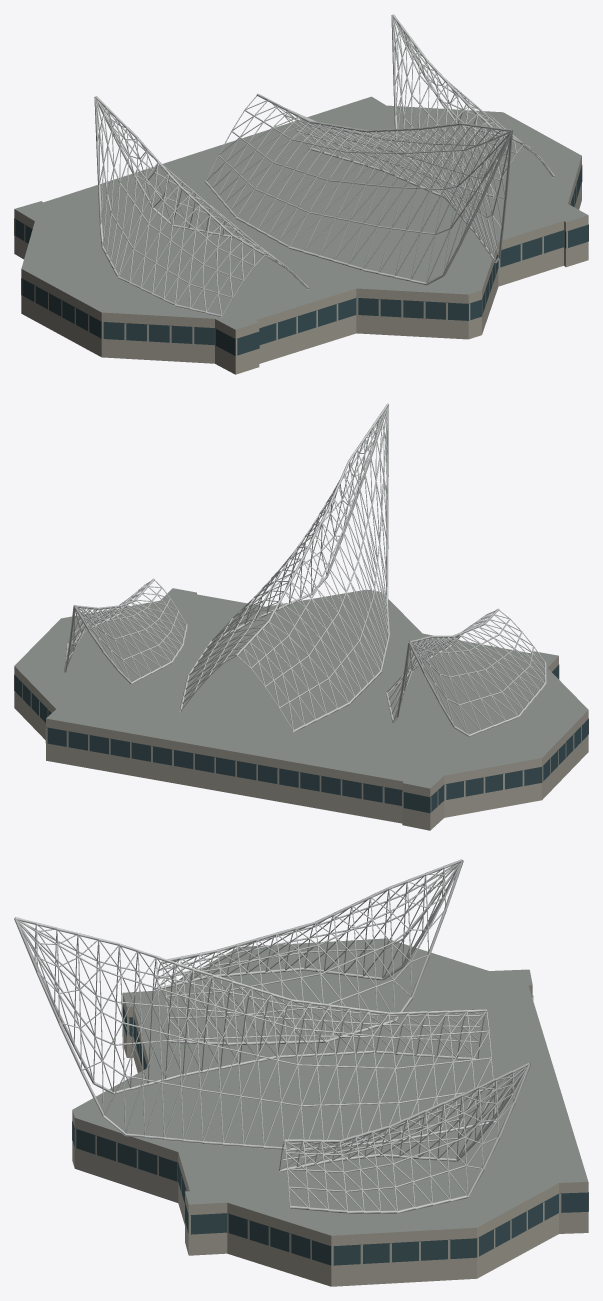
The model's file is kobe-maritime-museum.glb.
3 renders of one model, top to bottom at view 1: azimuth 30°, elevation 25°; view 2: azimuth 150°, elevation 25°; view 3: azimuth 270°, elevation 25°, orthographic. The views are drawn at different scales.
Size of the model in its own units: 115 by 45.73 by 93.91.
